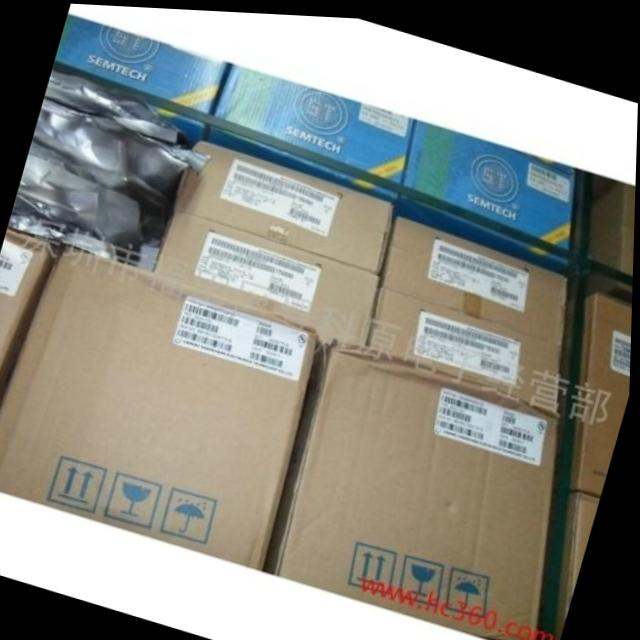box: (0, 245, 321, 568), (271, 335, 561, 640), (154, 206, 382, 343), (206, 61, 415, 202), (175, 138, 393, 271), (394, 114, 575, 269), (367, 283, 564, 405), (380, 211, 568, 338), (54, 14, 232, 140), (570, 287, 634, 490), (0, 228, 59, 416), (563, 484, 601, 622), (589, 167, 636, 269)
